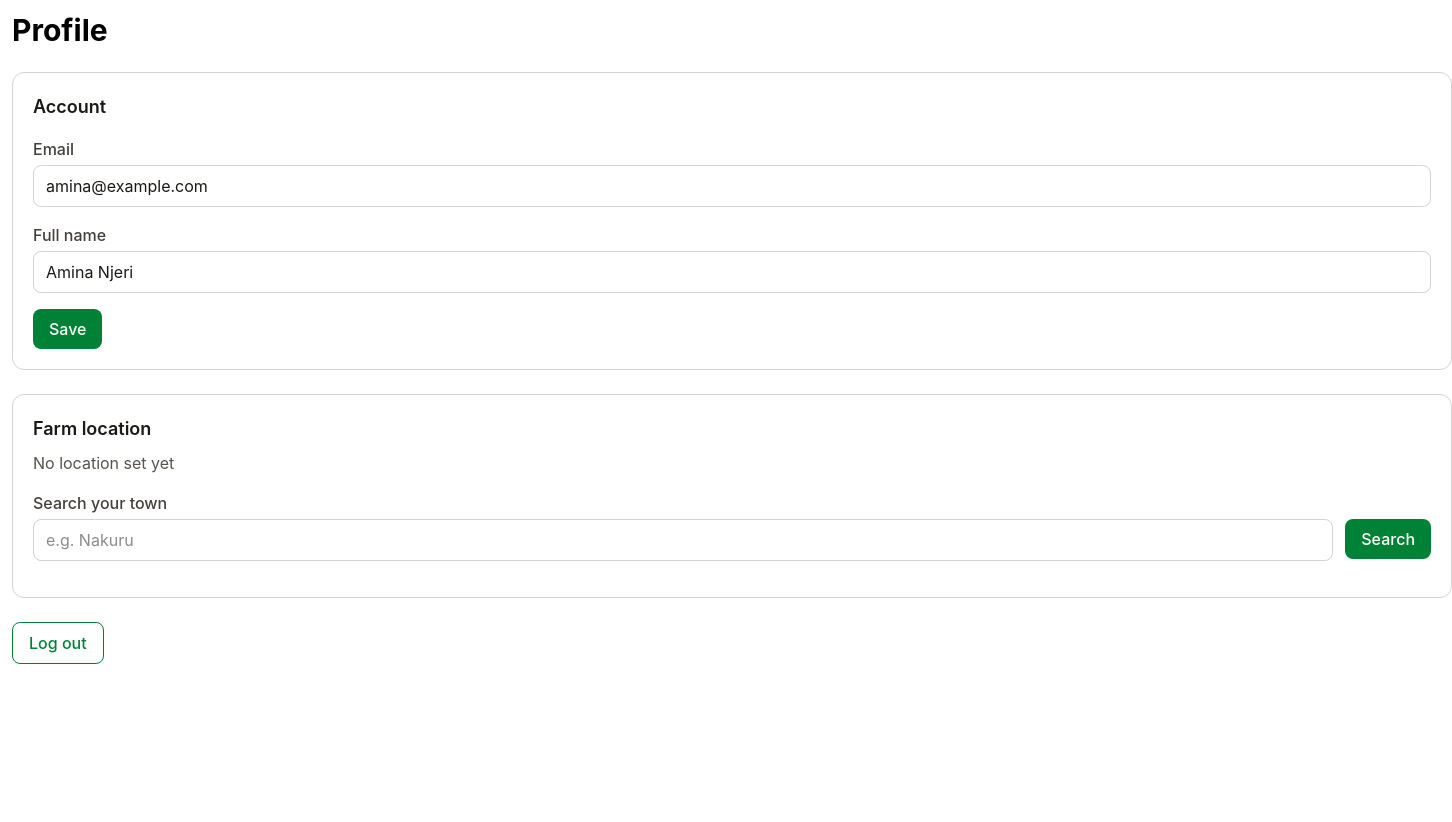
Test: Profile page › requires a name before saving
This screenshot has width=1452, height=822.
Clear the field labelled "Full name" at [732, 272], box [33,251,1431,293]
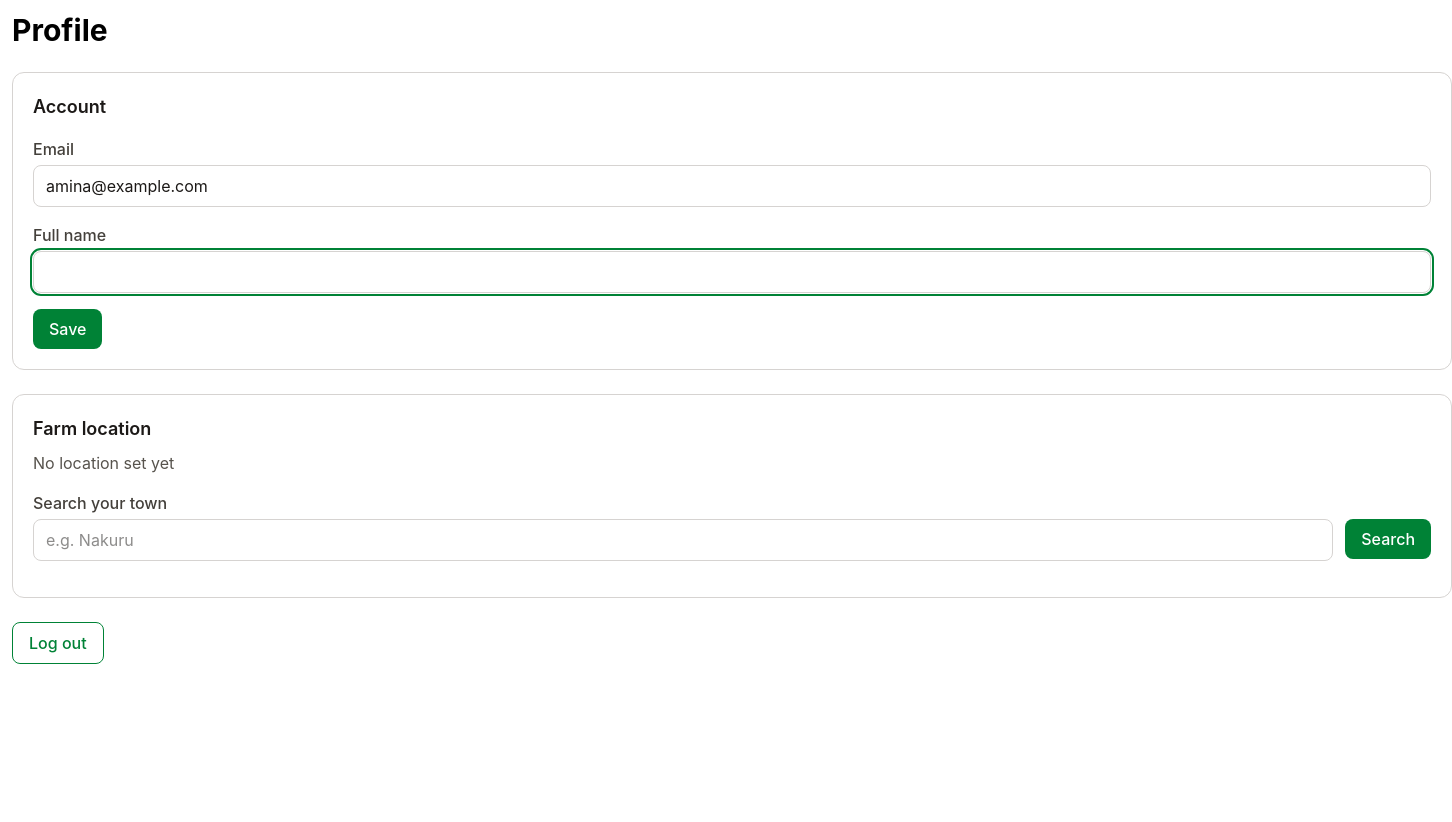
Click the button "Save" at [68, 329], box [33,309,102,349]
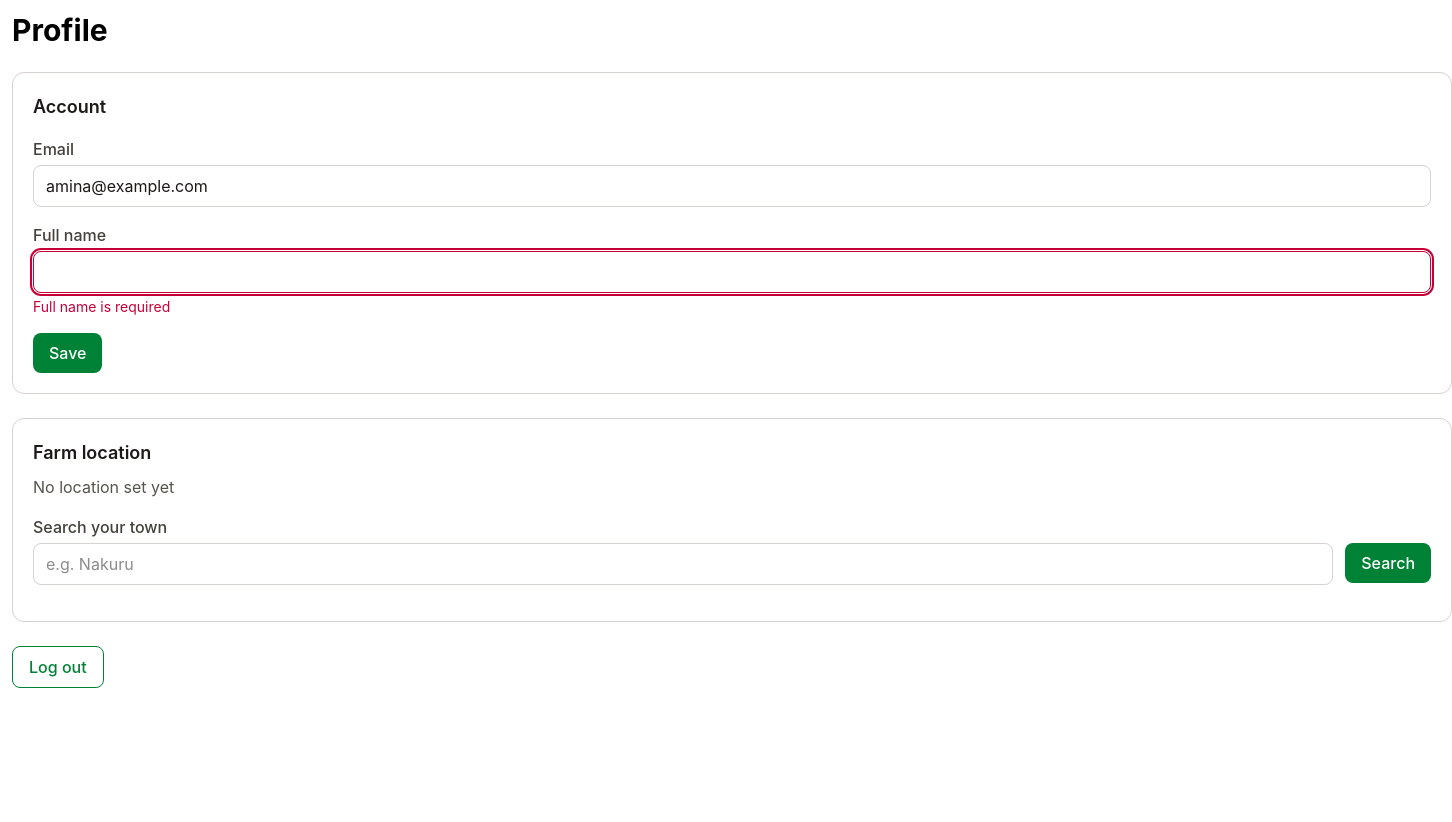
Expected: the text "Full name is required" is shown, [33,298,170,315]
